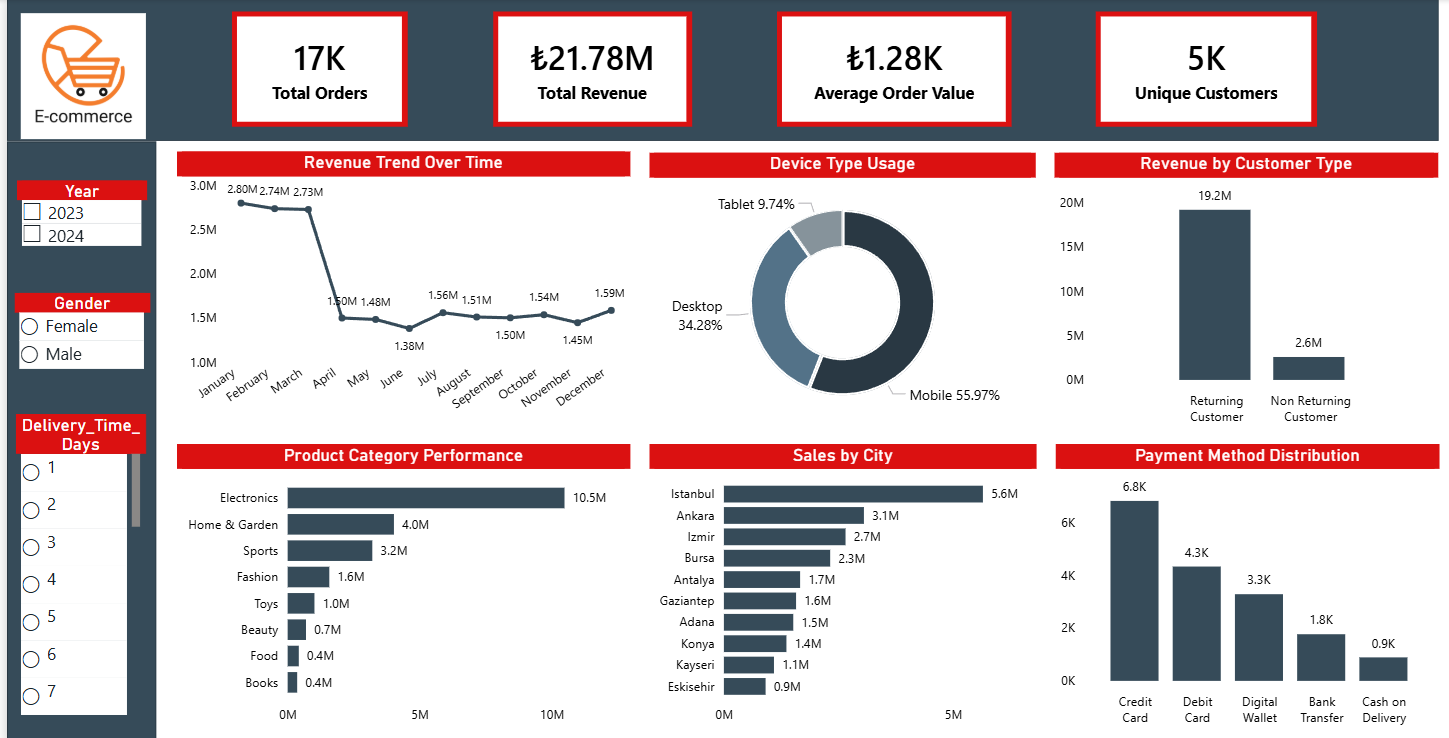

The dashboard page shown, as its layout file describes it:
{"tool":"powerbi","page":{"name":"Page 1","canvas":[1400,720],"ordinal":0},"visuals":[{"type":"shape","box":[0,0,1382,137.1],"z":0},{"type":"shape","box":[0,137,144.3,583.3],"z":1000},{"type":"cardVisual","fields":{"Data":["ecommerce_sales ecommerce_customer_behavior.Total Revenue"]},"box":[469.4,12.2,192,111.3],"z":2000},{"type":"cardVisual","fields":{"Data":["ecommerce_sales ecommerce_customer_behavior.Unique Customers"]},"box":[1051,12.4,213.7,111.2],"z":3000},{"type":"cardVisual","fields":{"Data":["ecommerce_sales ecommerce_customer_behavior.Average Order Value"]},"box":[743.2,12.4,226,111.2],"z":4000},{"type":"clusteredBarChart","title":"Sales by City","fields":{"Category":["ecommerce_sales ecommerce_customer_behavior.City"],"Y":["Sum(ecommerce_sales ecommerce_customer_behavior.Total_Amount)"]},"box":[620,429,373.7,279.8],"z":5000},{"type":"clusteredBarChart","title":"Product Category Performance","fields":{"Y":["Sum(ecommerce_sales ecommerce_customer_behavior.Total_Amount)"],"Category":["ecommerce_sales ecommerce_customer_behavior.Product_Category"]},"box":[164.2,429,437.3,279.8],"z":6000},{"type":"lineChart","title":"Revenue Trend Over Time","fields":{"Y":["Sum(ecommerce_sales ecommerce_customer_behavior.Total_Amount)"],"Category":["ecommerce_sales ecommerce_customer_behavior.Date.Variation.Date Hierarchy.Month"]},"box":[164.2,147.5,437.3,271.4],"z":7000},{"type":"donutChart","title":"Device Type Usage","fields":{"Category":["ecommerce_sales ecommerce_customer_behavior.Device_Type"],"Y":["CountNonNull(ecommerce_sales ecommerce_customer_behavior.Order_ID)"]},"box":[620,148.2,373,270.5],"z":8000},{"type":"clusteredColumnChart","title":"Payment Method Distribution","fields":{"Category":["ecommerce_sales ecommerce_customer_behavior.Payment_Method"],"Y":["CountNonNull(ecommerce_sales ecommerce_customer_behavior.Order_ID)"]},"box":[1012.1,429,370.3,279.8],"z":9000},{"type":"columnChart","title":"Revenue by Customer Type","fields":{"Category":["ecommerce_sales ecommerce_customer_behavior.Is_Returning_Customer"],"Y":["Sum(ecommerce_sales ecommerce_customer_behavior.Total_Amount)"]},"box":[1011.5,148.2,370.5,270.5],"z":10000},{"type":"cardVisual","fields":{"Data":["ecommerce_sales ecommerce_customer_behavior.Total Orders"]},"box":[217.6,12.2,170,111.3],"z":11000},{"type":"listSlicer","fields":{"Values":["ecommerce_sales ecommerce_customer_behavior.Year"]},"box":[9.8,174.9,126,184.6],"z":12000},{"type":"listSlicer","fields":{"Values":["ecommerce_sales ecommerce_customer_behavior.Gender"]},"box":[7.3,283.7,130.8,218.9],"z":13000},{"type":"listSlicer","fields":{"Values":["ecommerce_sales ecommerce_customer_behavior.Delivery_Time_Days"]},"box":[8.6,401.1,126,299.6],"z":14000},{"type":"image","box":[13.5,12.2,121.1,124.7],"z":15000}]}

Visuals, with their boxes in screenshot pixels (x1, y1, x2, y2), scaled from the page's 1400x720 canvas onto the 1449x738 screenshot:
shape: Rect(0, 0, 1430, 141)
shape: Rect(0, 140, 149, 737)
cardVisual - ecommerce_sales ecommerce_customer_behavior.Total Revenue: Rect(486, 13, 685, 127)
cardVisual - ecommerce_sales ecommerce_customer_behavior.Unique Customers: Rect(1088, 13, 1309, 127)
cardVisual - ecommerce_sales ecommerce_customer_behavior.Average Order Value: Rect(769, 13, 1003, 127)
"Sales by City" clusteredBarChart: Rect(642, 440, 1028, 727)
"Product Category Performance" clusteredBarChart: Rect(170, 440, 623, 727)
"Revenue Trend Over Time" lineChart: Rect(170, 151, 623, 429)
"Device Type Usage" donutChart: Rect(642, 152, 1028, 429)
"Payment Method Distribution" clusteredColumnChart: Rect(1048, 440, 1431, 727)
"Revenue by Customer Type" columnChart: Rect(1047, 152, 1430, 429)
cardVisual - ecommerce_sales ecommerce_customer_behavior.Total Orders: Rect(225, 13, 401, 127)
listSlicer - ecommerce_sales ecommerce_customer_behavior.Year: Rect(10, 179, 141, 368)
listSlicer - ecommerce_sales ecommerce_customer_behavior.Gender: Rect(8, 291, 143, 515)
listSlicer - ecommerce_sales ecommerce_customer_behavior.Delivery_Time_Days: Rect(9, 411, 139, 718)
image: Rect(14, 13, 139, 140)
